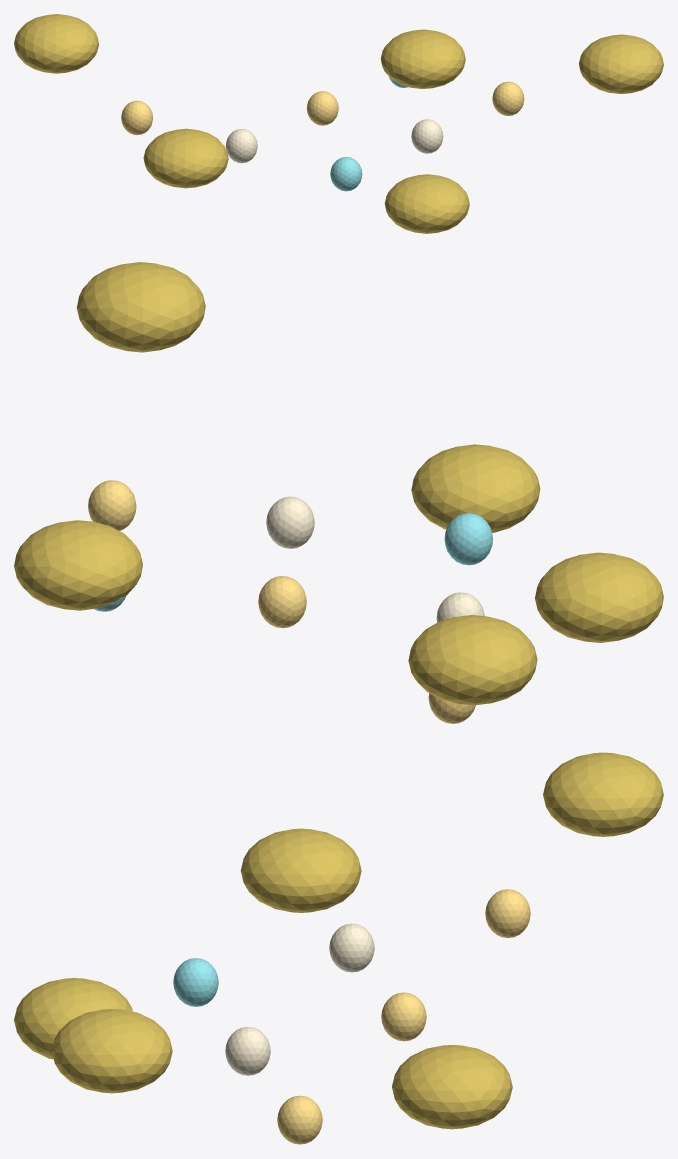
The model's file is estrellas.glb.
3 views of the same model, one above another, from view 1: azimuth 30°, elevation 25°; view 2: azimuth 150°, elevation 25°; view 3: azimuth 270°, elevation 25° (orthographic). The views are drawn at different scales.
Parts seen in each view (by area): view 1: estrellas_04, estrellas_02, estrellas_00, estrellas_03, estrellas_01, Detalle_05, Detalle_04, Detalle_03, Detalle_07, Detalle_02, Detalle_01; view 2: estrellas_00, estrellas_04, estrellas_03, estrellas_01, estrellas_02, Detalle_05, Detalle_04, Detalle_03, Detalle_07, Detalle_02, Detalle_01; view 3: estrellas_04, estrellas_01, estrellas_03, estrellas_00, estrellas_02, Detalle_02, Detalle_04, Detalle_05, Detalle_07, Detalle_01, Detalle_03.
Boxes of the visible parts, x1=… form: estrellas_04: x1=14, y1=14, x2=98, y2=73; estrellas_02: x1=384, y1=174, x2=469, y2=233; estrellas_00: x1=143, y1=128, x2=228, y2=188; estrellas_03: x1=579, y1=34, x2=663, y2=94; estrellas_01: x1=380, y1=29, x2=465, y2=89; Detalle_05: x1=411, y1=119, x2=443, y2=153; Detalle_04: x1=306, y1=91, x2=338, y2=125; Detalle_03: x1=330, y1=157, x2=362, y2=191; Detalle_07: x1=492, y1=81, x2=524, y2=115; Detalle_02: x1=225, y1=129, x2=257, y2=163; Detalle_01: x1=121, y1=100, x2=152, y2=134; estrellas_00: x1=535, y1=552, x2=663, y2=642; estrellas_04: x1=408, y1=615, x2=537, y2=705; estrellas_03: x1=77, y1=262, x2=205, y2=352; estrellas_01: x1=14, y1=520, x2=142, y2=610; estrellas_02: x1=411, y1=444, x2=540, y2=532; Detalle_05: x1=266, y1=496, x2=314, y2=548; Detalle_04: x1=258, y1=576, x2=306, y2=628; Detalle_03: x1=444, y1=513, x2=492, y2=565; Detalle_07: x1=88, y1=480, x2=136, y2=530; Detalle_02: x1=436, y1=592, x2=484, y2=622; Detalle_01: x1=428, y1=693, x2=475, y2=723; estrellas_04: x1=543, y1=752, x2=663, y2=836; estrellas_01: x1=392, y1=1044, x2=512, y2=1129; estrellas_03: x1=52, y1=1009, x2=172, y2=1093; estrellas_00: x1=240, y1=828, x2=361, y2=912; estrellas_02: x1=14, y1=978, x2=132, y2=1059; Detalle_02: x1=329, y1=923, x2=374, y2=972; Detalle_04: x1=381, y1=992, x2=426, y2=1041; Detalle_05: x1=225, y1=1027, x2=270, y2=1075; Detalle_07: x1=277, y1=1095, x2=322, y2=1144; Detalle_01: x1=485, y1=889, x2=530, y2=937; Detalle_03: x1=173, y1=958, x2=218, y2=1006.
Size of the model in its own units: 0.8283 by 0.2161 by 0.7053.
